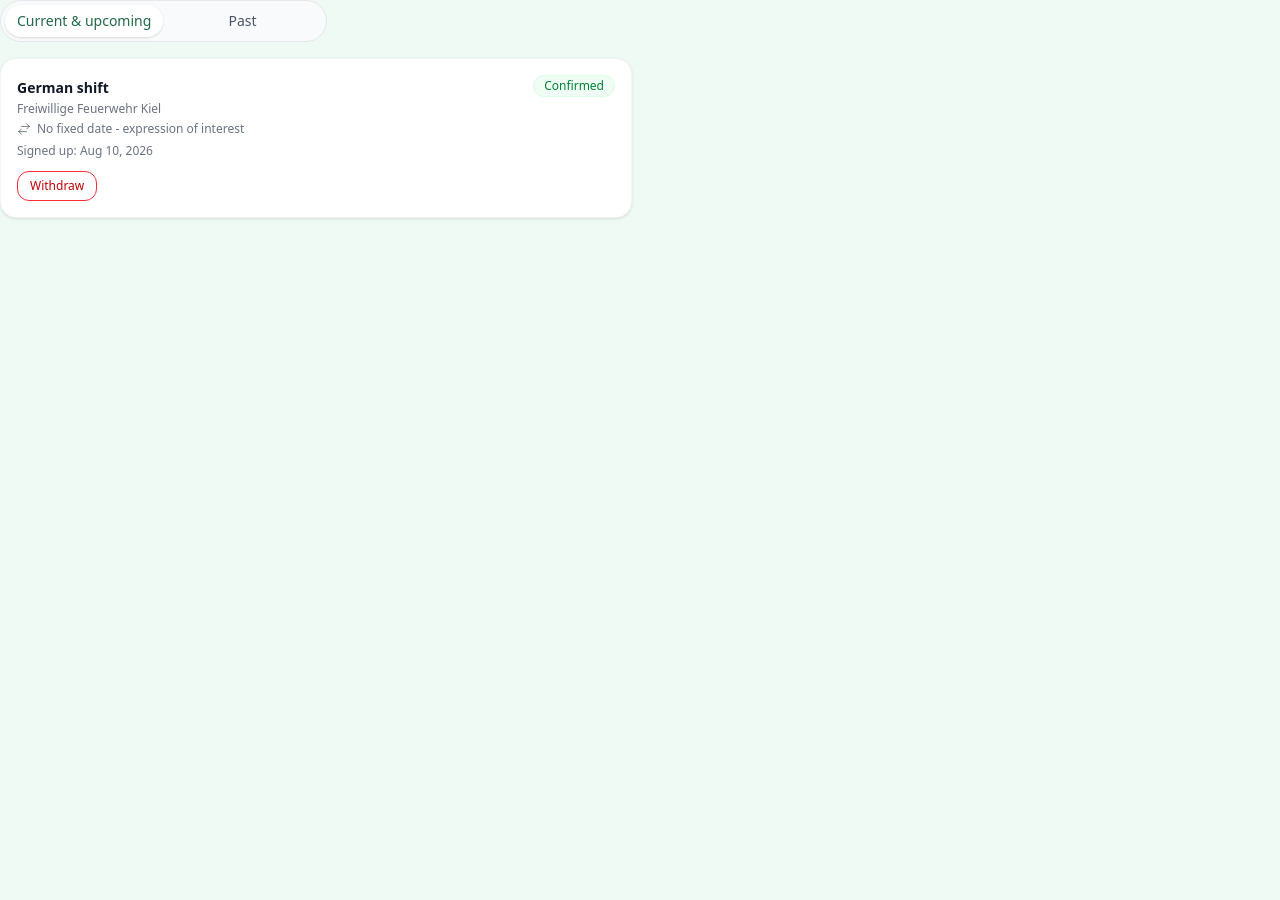
it: my-signups withdraw copy (#2228) › speaks of withdrawing interest, not releasing a seat, for an interest-based sign-up
Click the button "Withdraw".
click(57, 186)  # box [17, 171, 97, 201]
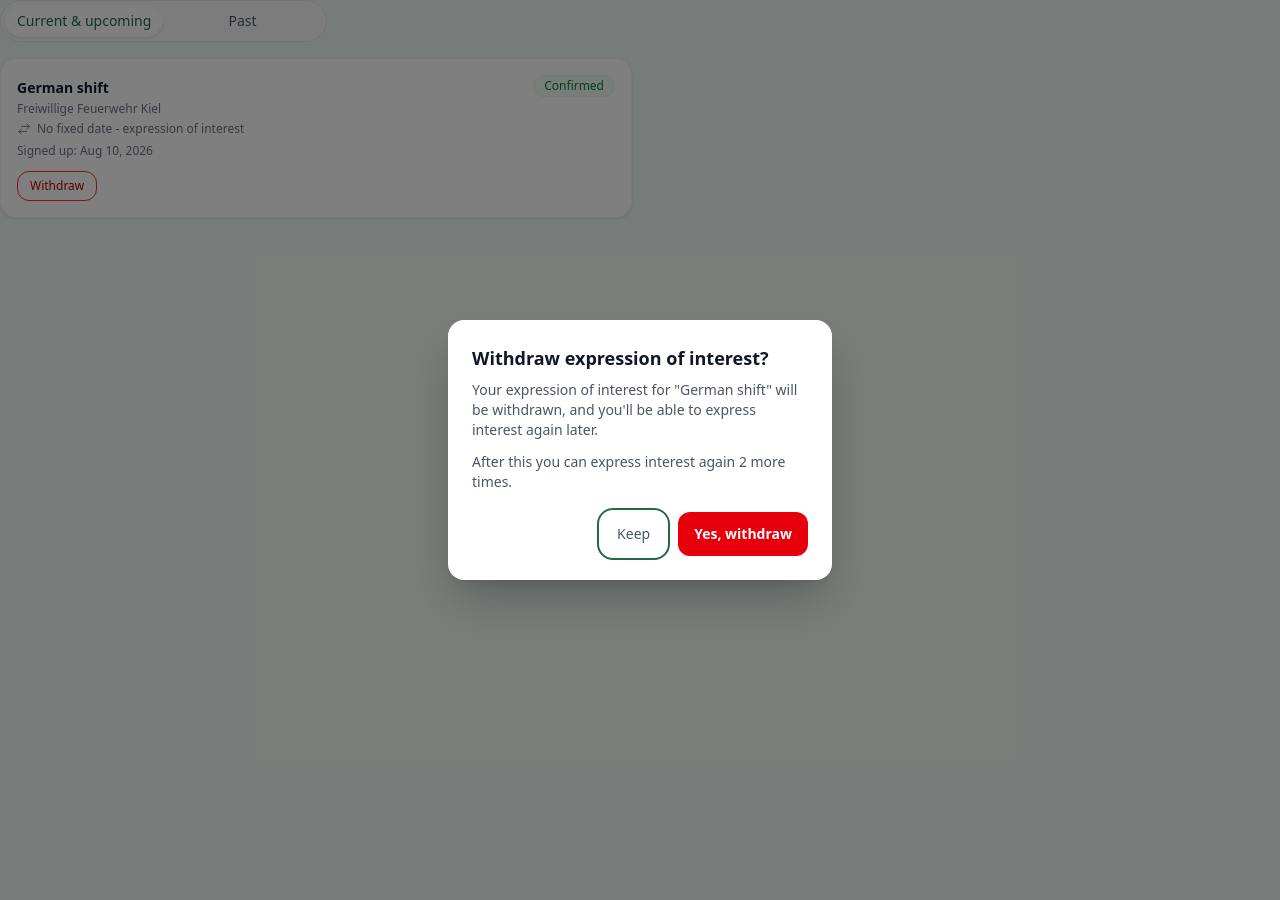
Check: the heading "Withdraw expression of interest?" is shown, box [472, 344, 808, 372]
Check: the text "Your expression of interest for \"German shift\" will be withdrawn, and you'll be able to express interest again later." is shown, box [472, 380, 797, 439]
